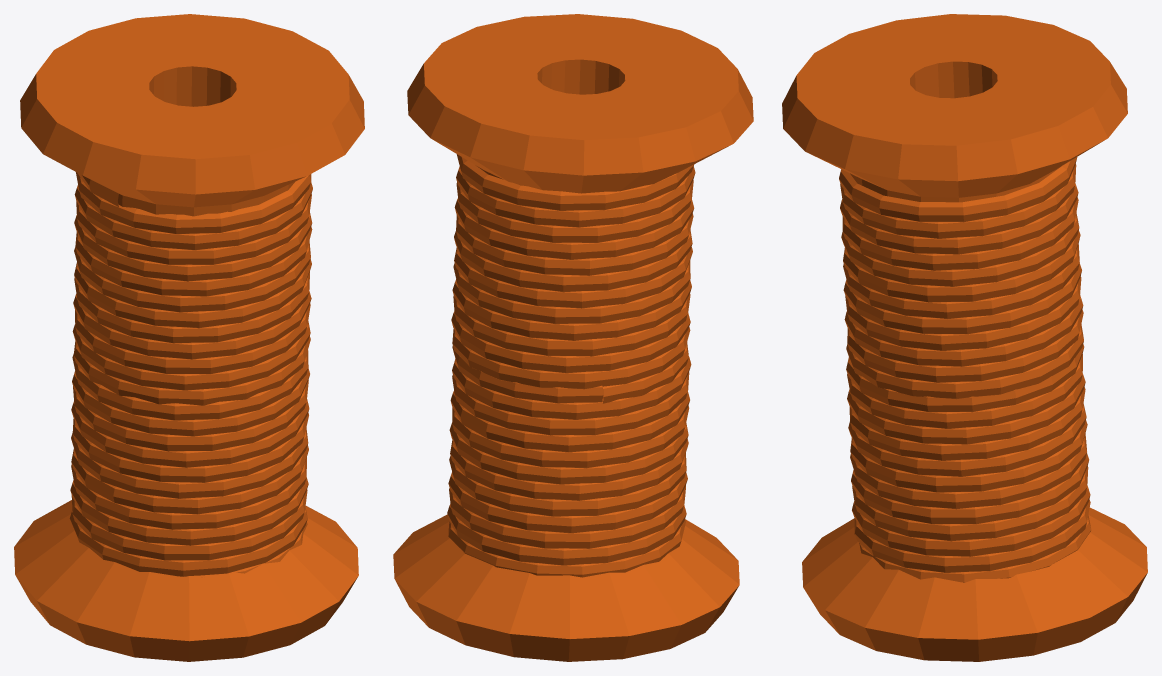
File: COIL.FBX
3 renders of one model, left to right at view 1: azimuth 30°, elevation 25°; view 2: azimuth 150°, elevation 25°; view 3: azimuth 270°, elevation 25°, orthographic.
Parts seen in each view (by area): view 1: Cylinder036; view 2: Cylinder036; view 3: Cylinder036.
Part boxes in pixels (box(x1,y1,x2,y2)): Cylinder036: box(14, 14, 364, 661); Cylinder036: box(393, 14, 753, 661); Cylinder036: box(782, 14, 1147, 661).
Bounding box in the file's own units: 44.27 × 72.36 × 45.65.
